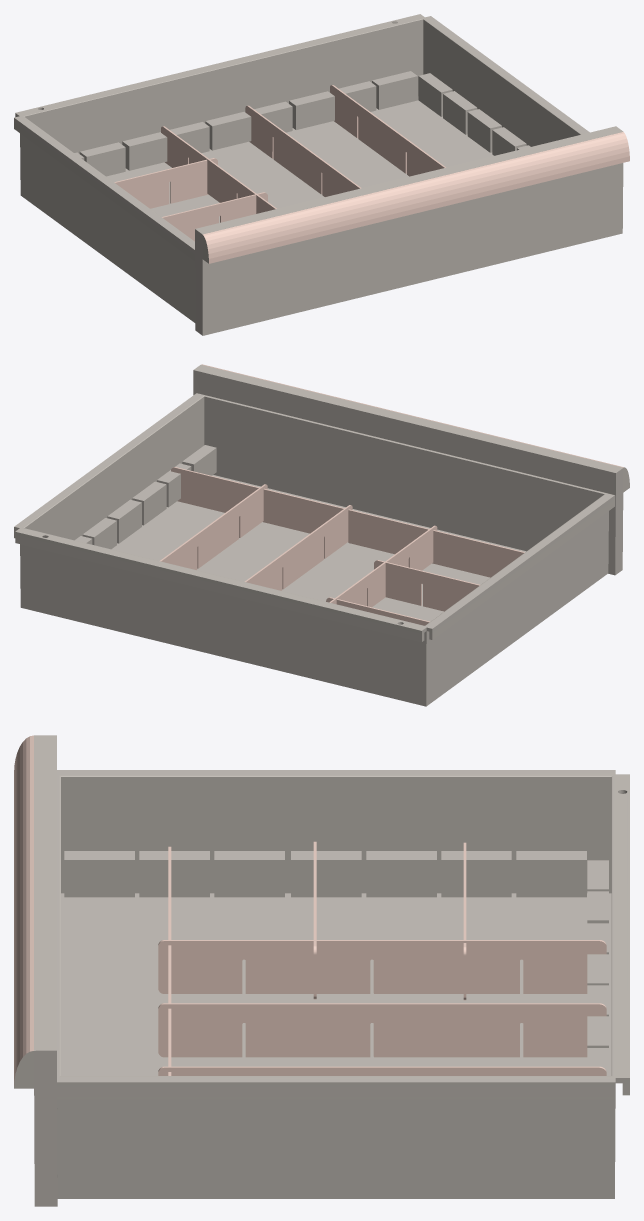
The model's file is 急救車抽屜-由上至下第三個.fbx.
3 views of the same model, one above another, from view 1: azimuth 30°, elevation 25°; view 2: azimuth 150°, elevation 25°; view 3: azimuth 270°, elevation 25° (orthographic). The views are drawn at different scales.
Visible parts, largest first — view 1: drawer03_red001_0; view 2: drawer03_red001_0; view 3: drawer03_red001_0.
Part boxes in pixels (left/top/right/bottom): drawer03_red001_0: left=14, top=14, right=629, bottom=335; drawer03_red001_0: left=14, top=364, right=629, bottom=706; drawer03_red001_0: left=14, top=735, right=629, bottom=1206.
Size of the model in its own units: 362 by 83.82 by 299.
